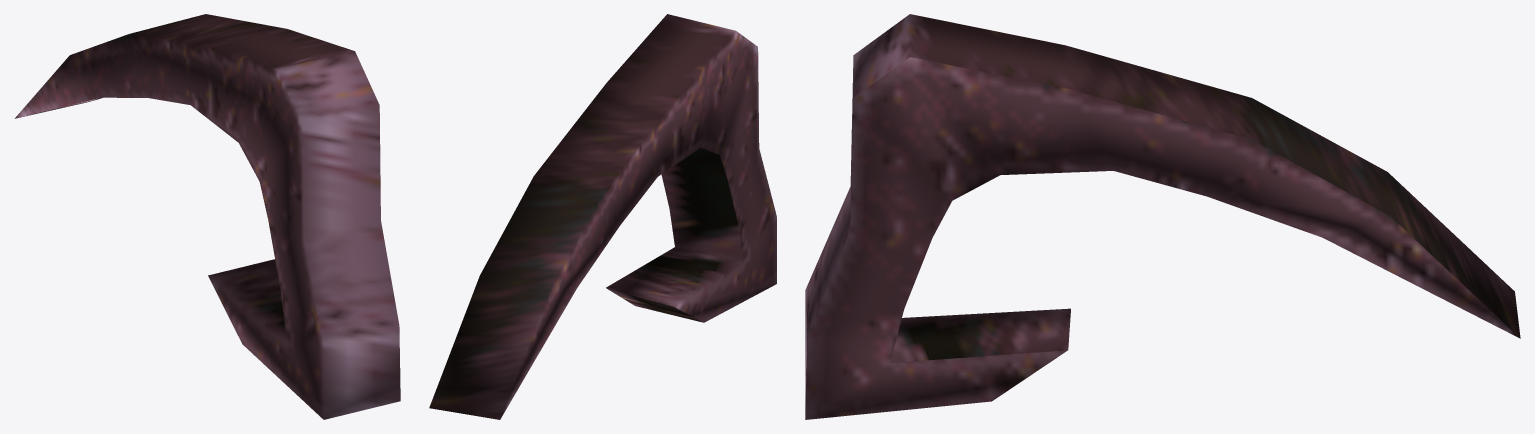
The model's file is end1.gltf.
3 renders of one model, left to right at view 1: azimuth 30°, elevation 25°; view 2: azimuth 150°, elevation 25°; view 3: azimuth 270°, elevation 25°, orthographic. The views are drawn at different scales.
Visible parts, largest first — view 1: mesh0_noesis_meshnode_0000; view 2: mesh0_noesis_meshnode_0000; view 3: mesh0_noesis_meshnode_0000.
Boxes of the visible parts, x1,y1,x2,y2 form: mesh0_noesis_meshnode_0000: (14,14,400,419); mesh0_noesis_meshnode_0000: (429,14,776,419); mesh0_noesis_meshnode_0000: (805,14,1520,419).
Bounding box in the file's own units: 3.38 × 13.32 × 23.78.
1 material, 1 textured.
